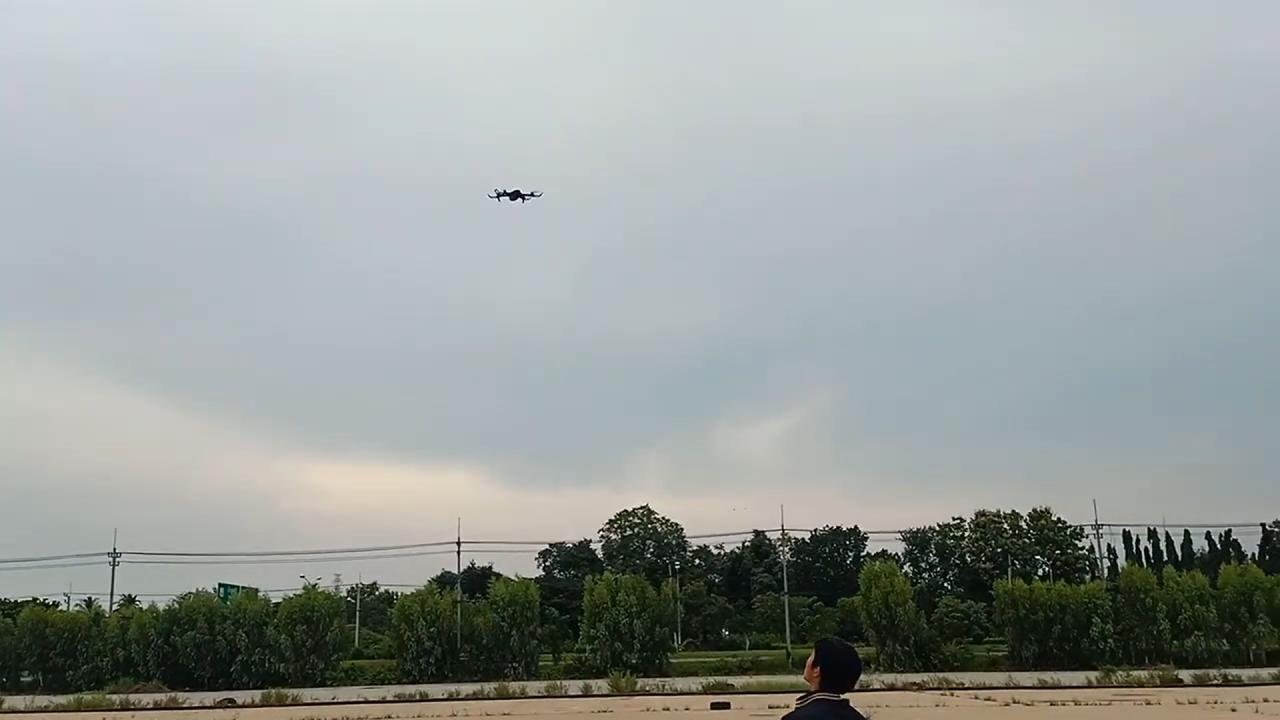Drone: (476, 177, 551, 213)
